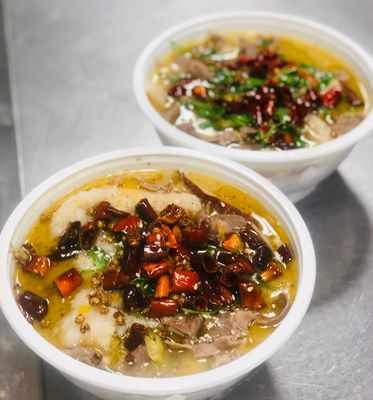sushi: (9, 147, 320, 397), (130, 11, 372, 202)
